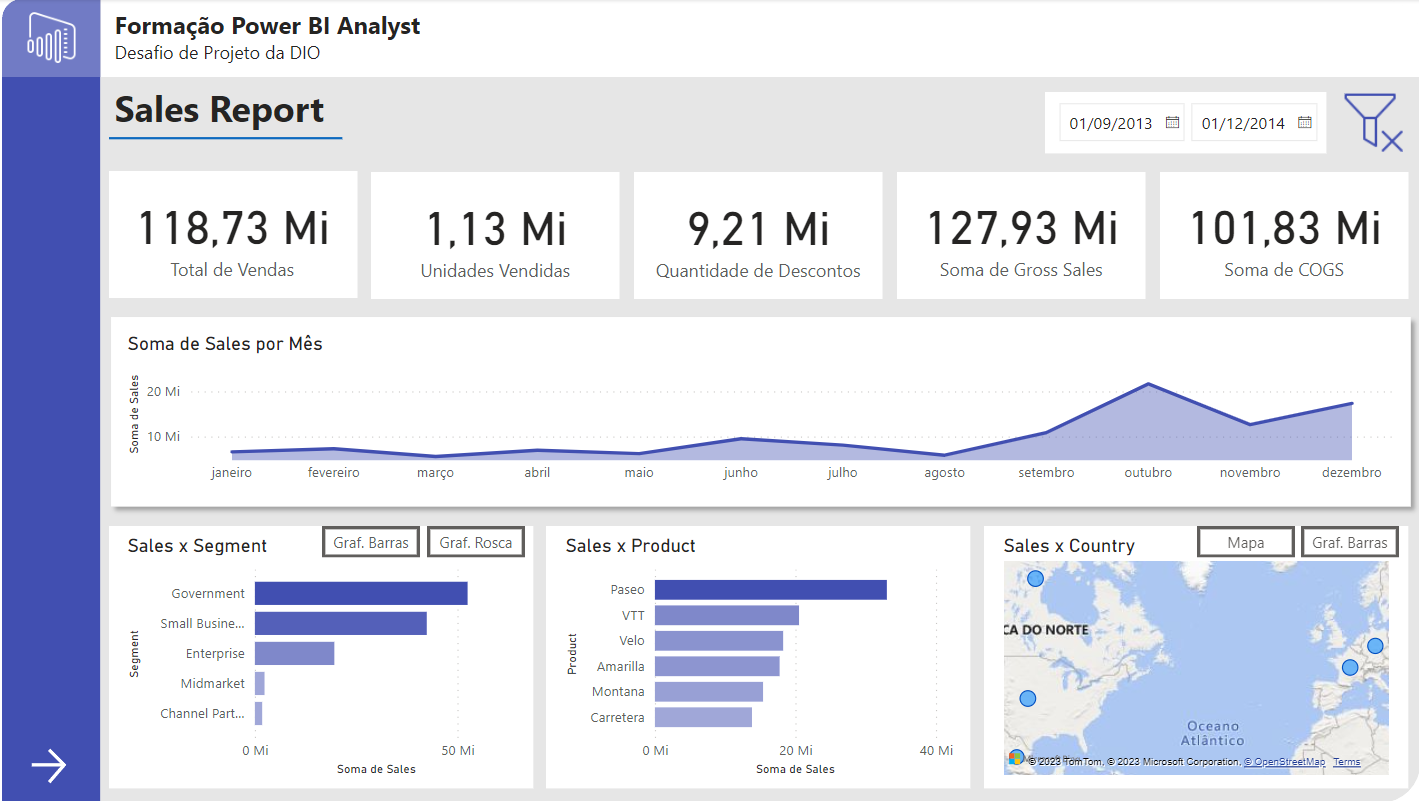

This screenshot's page, from the dashboard's own definition file:
{"tool":"powerbi","page":{"name":"Sales Report","canvas":[1280,720],"ordinal":0},"visuals":[{"type":"shape","box":[9.7,0,1270.3,720],"z":0},{"type":"shape","box":[105.9,153.6,222.6,113.7],"z":0,"group":"g1"},{"type":"shape","box":[9.7,0,88.4,720.2],"z":1000},{"type":"shape","box":[340.9,154.6,222.6,113.7],"z":1000,"group":"g1"},{"type":"shape","box":[9.7,0,88.4,70],"z":2000},{"type":"shape","box":[575.9,154.6,222.6,113.7],"z":2000,"group":"g1"},{"type":"image","box":[20.4,3.9,68,62.2],"z":3000},{"type":"shape","box":[811.6,154.6,222.6,113.7],"z":3000,"group":"g1"},{"type":"shape","box":[98.2,0,1181.8,70],"z":4000},{"type":"shape","box":[1046.8,154.6,222.6,113.7],"z":4000,"group":"g1"},{"type":"textbox","box":[105.9,3.9,570.5,62.2],"z":5000},{"type":"group","id":"g1","title":"Cartões","box":[105.9,153.6,1163.4,114.7],"z":6000},{"type":"textbox","box":[105.9,70,222.6,61.2],"z":7000},{"type":"shape","box":[105.9,110.8,209,27.2],"z":8000},{"type":"shape","box":[98.2,276,1181.8,187.6],"z":9000},{"type":"shape","box":[105.9,472.3,380,235.2],"z":10000},{"type":"shape","box":[889.3,472.3,380,235.2],"z":11000},{"type":"shape","box":[496.6,472.3,380,235.2],"z":12000},{"type":"image","box":[1207.1,79.7,62.2,62.2],"z":13000},{"type":"areaChart","fields":{"Category":["financials.Date.Variation.Hierarquia de datas.Mês"],"Y":["Sum(financials. Sales)"]},"box":[117.6,298.4,1143,143.8],"z":14000},{"type":"card","fields":{"Values":["Sum(financials. Sales)"]},"box":[117.6,160.4,197.3,100.1],"z":15000},{"type":"card","fields":{"Values":["Sum(financials.Units Sold)"]},"box":[352.8,161.3,197.3,100.1],"z":16000},{"type":"card","fields":{"Values":["Sum(financials.Discounts)"]},"box":[588,161.3,197.3,100.1],"z":17000},{"type":"card","fields":{"Values":["Sum(financials.Gross Sales)"]},"box":[824.2,160.4,197.3,100.1],"z":18000},{"type":"card","fields":{"Values":["Sum(financials.COGS)"]},"box":[1059.4,160.4,197.3,100.1],"z":19000},{"type":"clusteredBarChart","title":"Sales x Product","fields":{"Y":["Sum(financials. Sales)"],"Category":["financials.Product"]},"box":[509.3,479.1,356.7,220.6],"z":21000},{"type":"slicer","fields":{"Values":["financials.Date"]},"box":[943.9,83.3,251.6,54.6],"z":23000},{"type":"clusteredBarChart","title":"Sales x Segment","fields":{"Y":["Sum(financials. Sales)"],"Category":["financials.Segment"]},"box":[117.6,479.2,356.7,220.6],"z":23500,"group":"g2"},{"type":"actionButton","box":[391,471.9,87.8,28.5],"z":24250,"group":"g2"},{"type":"actionButton","title":"Botão","box":[296.3,471.9,87.8,28.5],"z":24500,"group":"g2"},{"type":"map","title":"Sales x Country","fields":{"Category":["financials.Country"],"Size":["Sum(financials. Sales)"]},"box":[901.9,479.2,354.7,220.6],"z":25875,"group":"g3"},{"type":"group","id":"g2","title":"Grupo 1","box":[117.6,471.9,361.1,228],"z":27500},{"type":"actionButton","box":[1172.9,471.9,87.8,28.5],"z":28000,"group":"g3"},{"type":"actionButton","box":[1079.4,471.9,87.8,28.5],"z":29000,"group":"g3"},{"type":"group","id":"g3","title":"Grupo 2","box":[901.6,471.9,359,229.1],"z":29001},{"type":"actionButton","box":[30.4,666.3,46.6,41.2],"z":29002}]}

Visuals, with their boxes on the page's 1280x720 design canvas (x1, y1, x2, y2). These are canvas units, not pixel positions in the 1419x801 screenshot, which may show the page scaled, cropped or inside an application window:
shape: 10,0,1280,720
shape: 106,154,328,267
shape: 10,0,98,720
shape: 341,155,564,268
shape: 10,0,98,70
shape: 576,155,798,268
image: 20,4,88,66
shape: 812,155,1034,268
shape: 98,0,1280,70
shape: 1047,155,1269,268
textbox: 106,4,676,66
"Cartões" group: 106,154,1269,268
textbox: 106,70,328,131
shape: 106,111,315,138
shape: 98,276,1280,464
shape: 106,472,486,708
shape: 889,472,1269,708
shape: 497,472,877,708
image: 1207,80,1269,142
areaChart - financials.Date.Variation.Hierarquia de datas.Mês x Sum(financials. Sales): 118,298,1261,442
card - Sum(financials. Sales): 118,160,315,260
card - Sum(financials.Units Sold): 353,161,550,261
card - Sum(financials.Discounts): 588,161,785,261
card - Sum(financials.Gross Sales): 824,160,1022,260
card - Sum(financials.COGS): 1059,160,1257,260
"Sales x Product" clusteredBarChart: 509,479,866,700
slicer - financials.Date: 944,83,1196,138
"Sales x Segment" clusteredBarChart: 118,479,474,700
actionButton: 391,472,479,500
"Botão" actionButton: 296,472,384,500
"Sales x Country" map: 902,479,1257,700
"Grupo 1" group: 118,472,479,700
actionButton: 1173,472,1261,500
actionButton: 1079,472,1167,500
"Grupo 2" group: 902,472,1261,701
actionButton: 30,666,77,708
